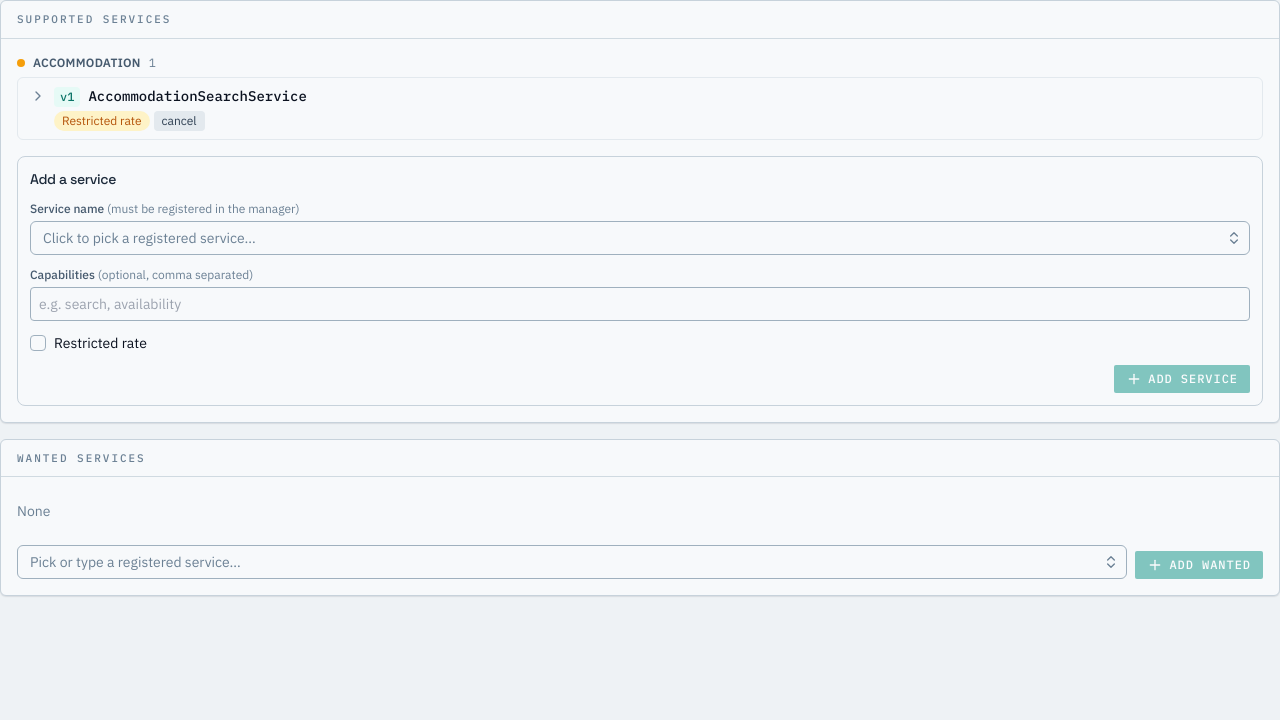
ServicesTab wrong-network guard › allows them once the wallet is on the chain the app is showing
This screenshot has width=1280, height=720.
Click the button "v1 AccommodationSearchService Restricted rate cancel".
click(198, 96)  # box [18,78,1262,138]
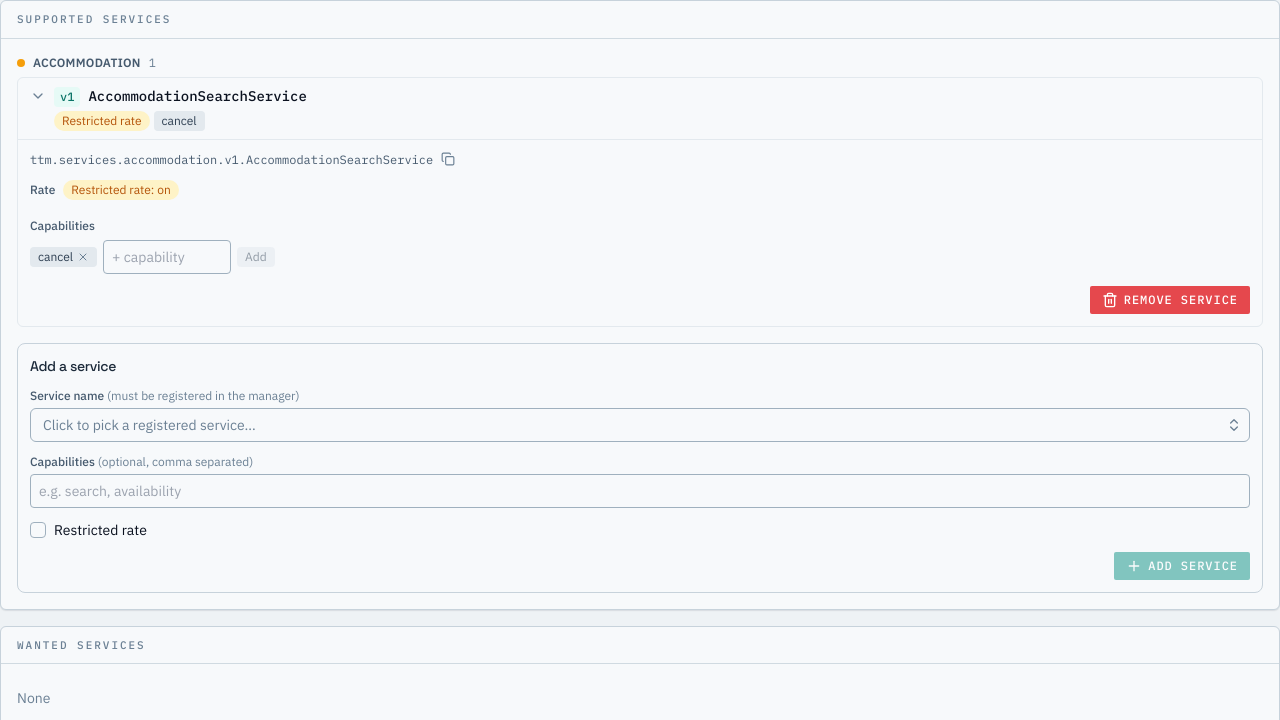
Now the button "Restricted rate: on" is enabled, box [63,180,179,200]
Now the button named "remove capability cancel" is enabled, box [77,250,89,262]
Now the button "Remove service" is enabled, box [1090,286,1250,314]
